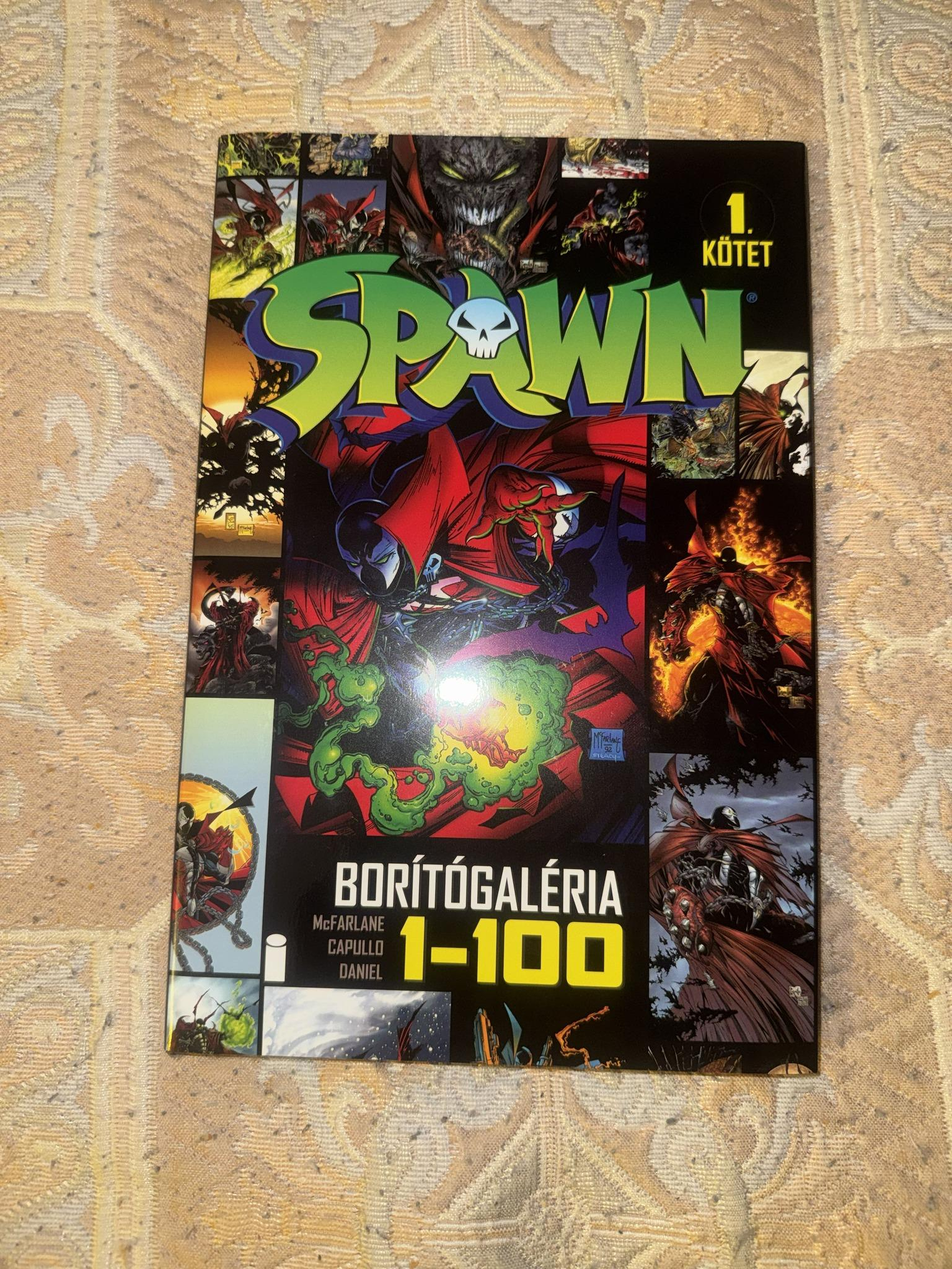comic: (165, 125, 844, 1075)
